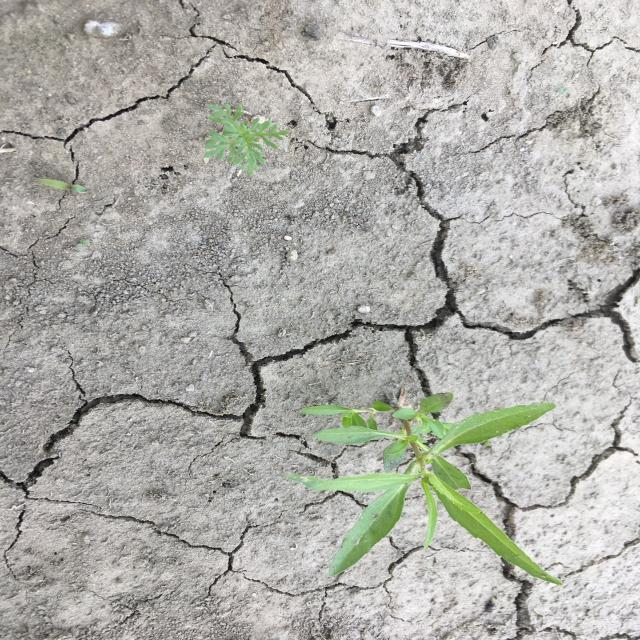Eclipta: (284, 392, 568, 588)
Ragweed: (200, 101, 293, 179)
